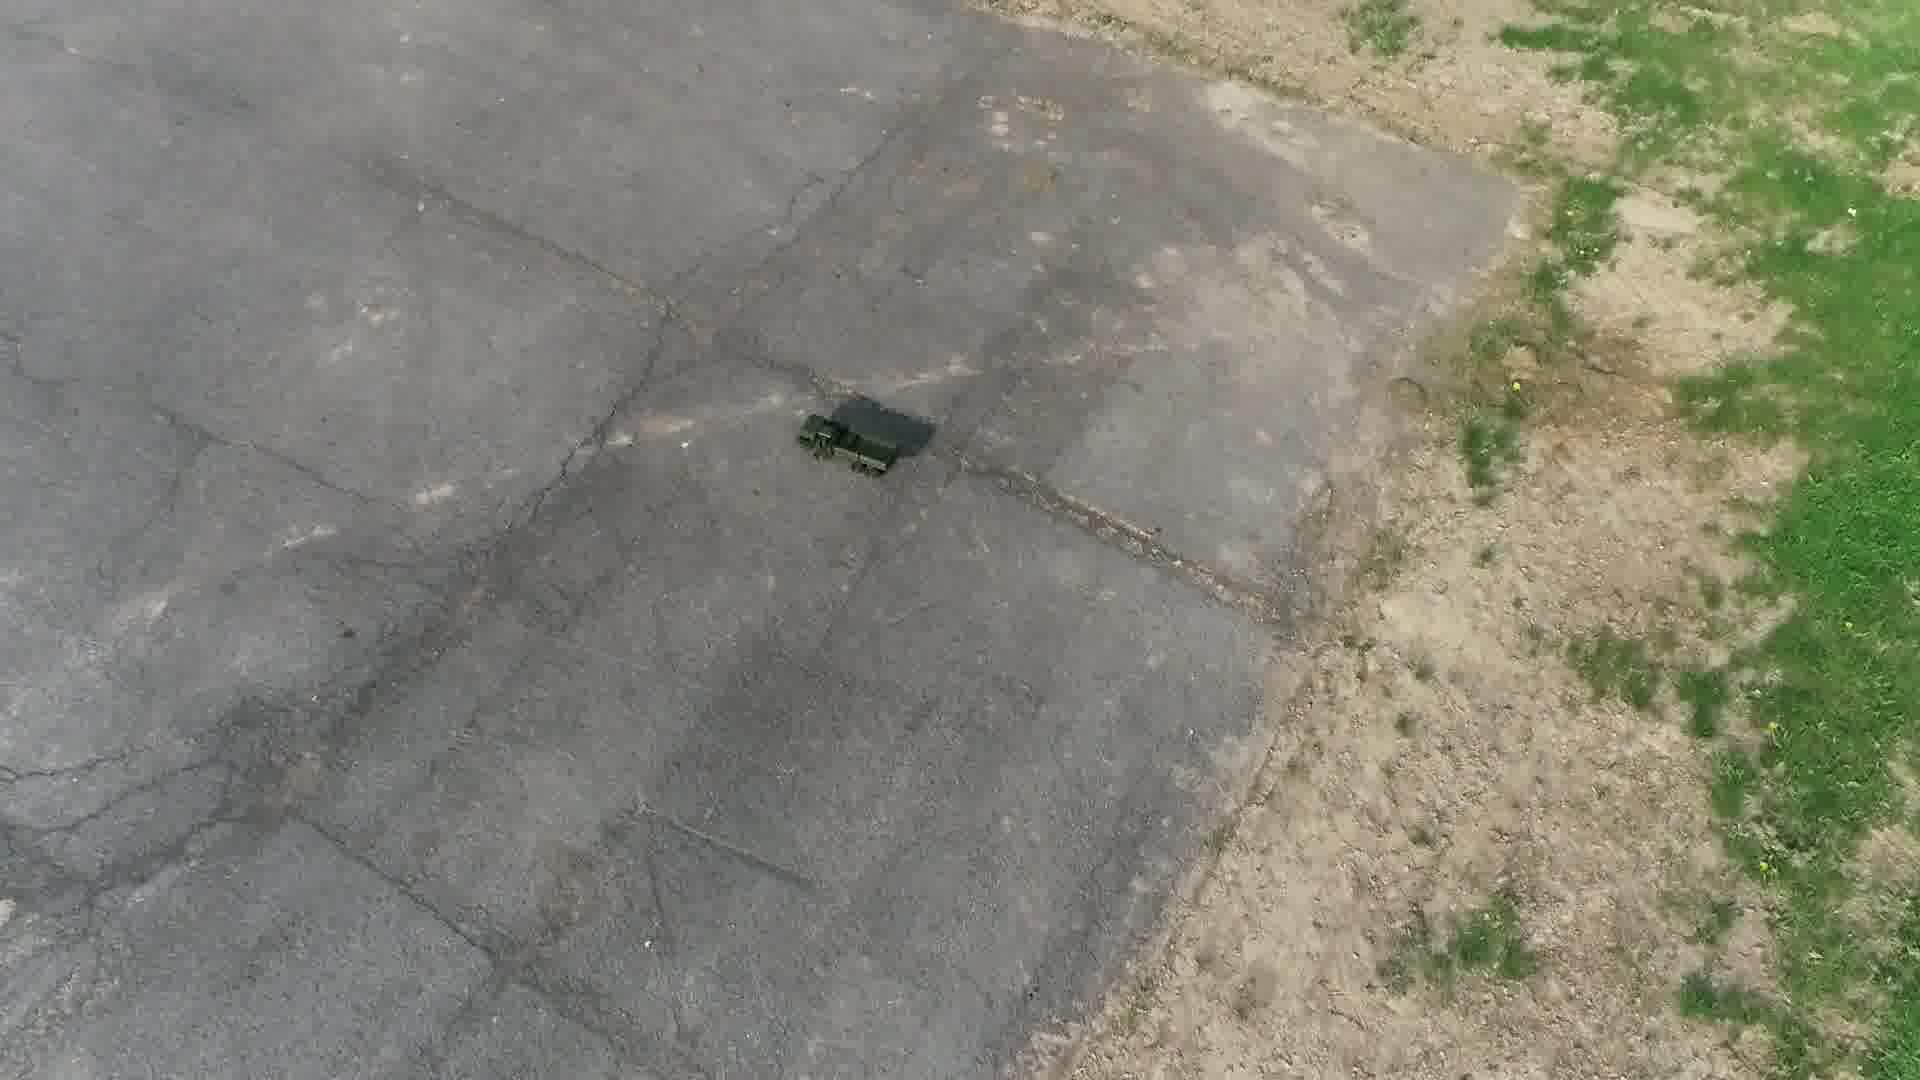transporter9: (793, 411, 903, 481)
